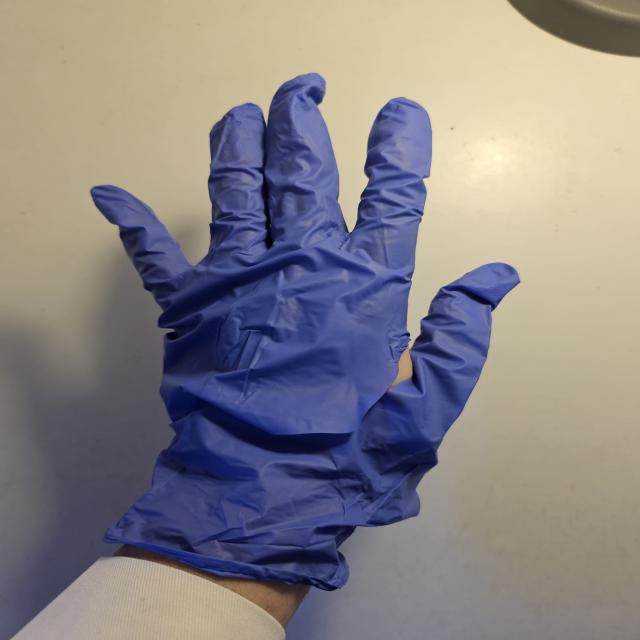gloves_damaged: (88, 73, 521, 554)
